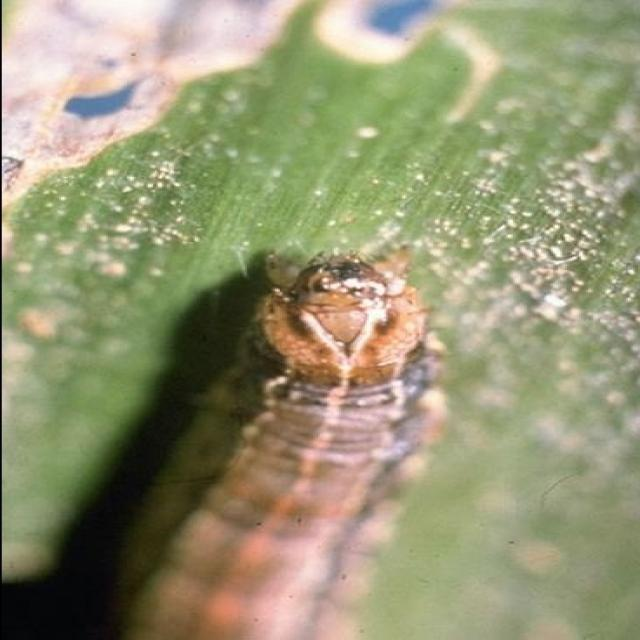army worm: (118, 247, 461, 638)
